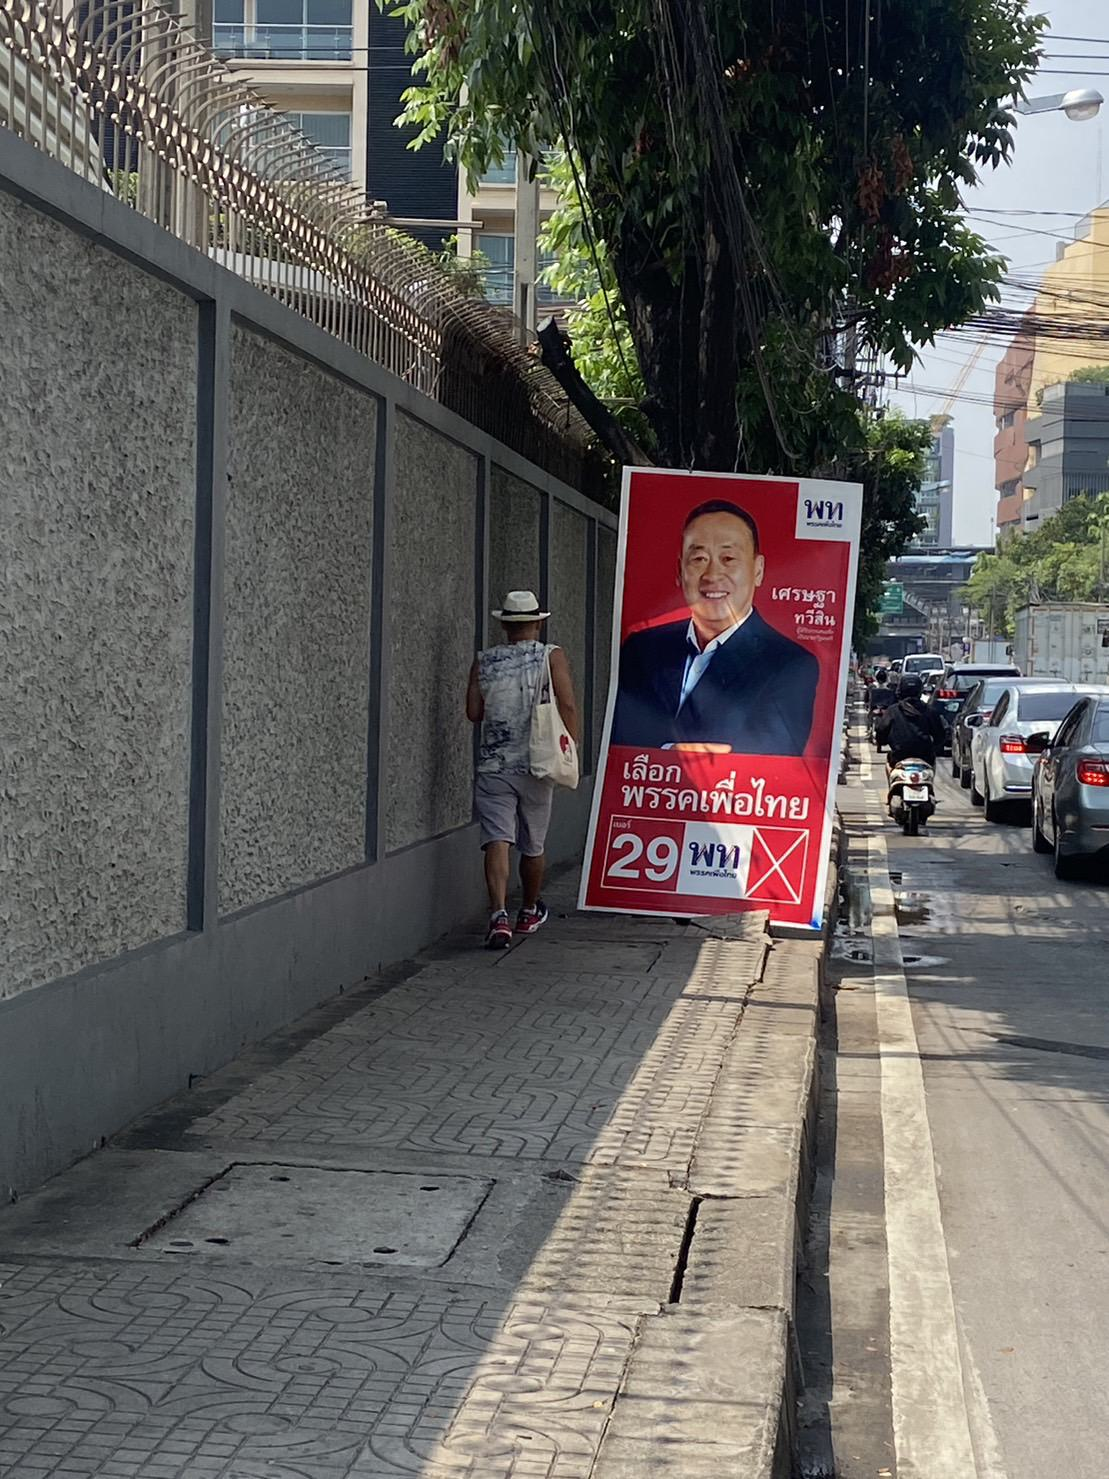Banner: (579, 468, 868, 924)
